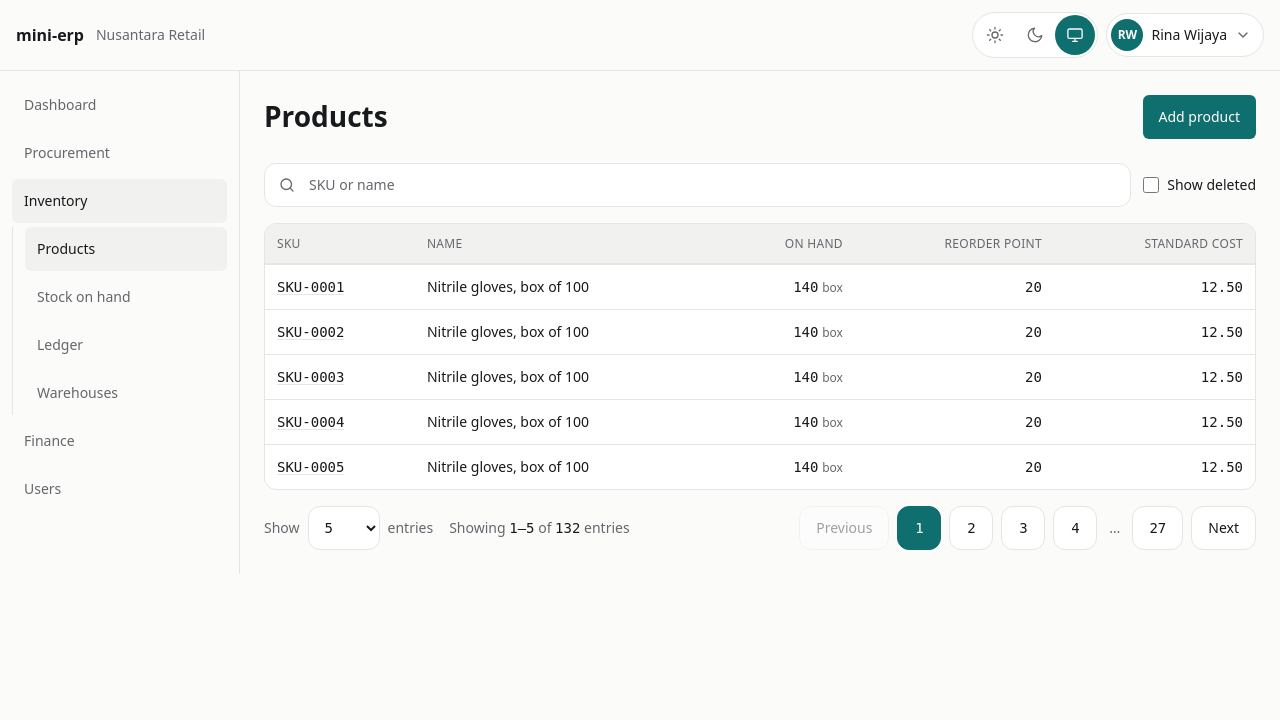
FE29 — a page is reachable by number, and the reader is told where they are › marks the current page for a screen reader, not only with a colour
Check: the link "mini-erp" is shown, box [16,23,84,47]
Check: the link "SKU-0001" is shown, box [277,279,344,295]
Click the button named "Page 2". click: (971, 528)
box: [949,506,993,550]
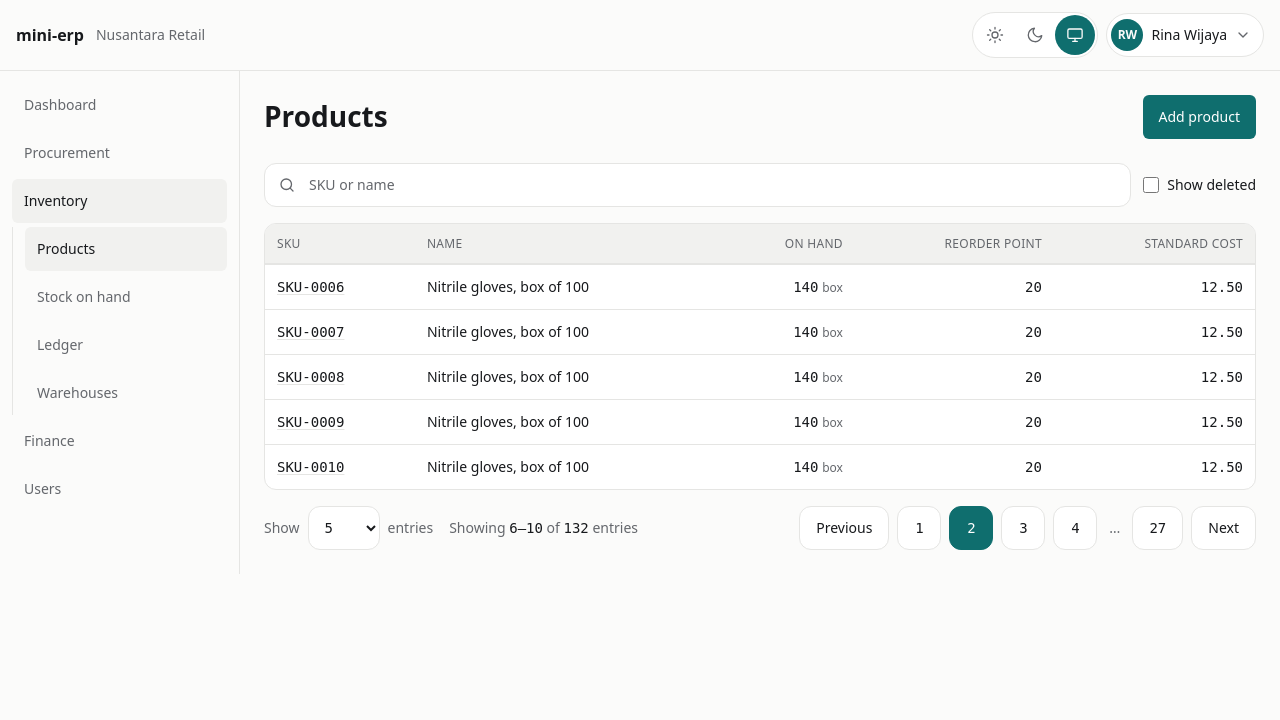
Check: the link "SKU-0006" is shown, box [277,279,344,295]
